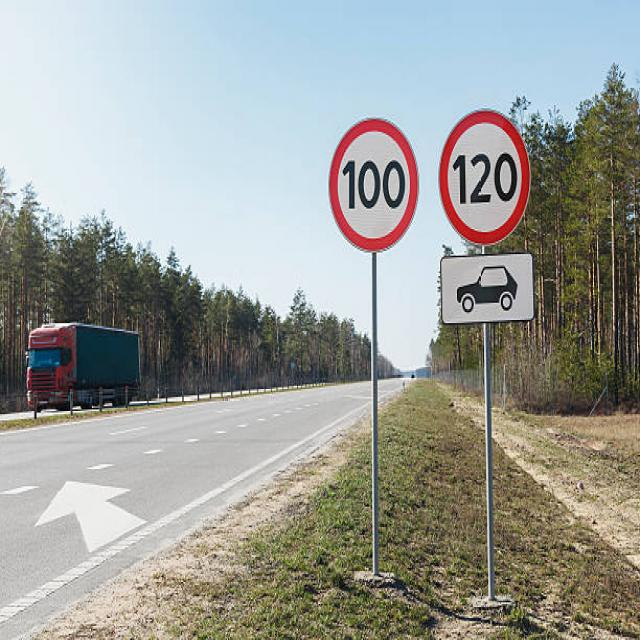speed_limit_100: (324, 112, 421, 260)
speed_limit_120: (438, 107, 538, 248)
